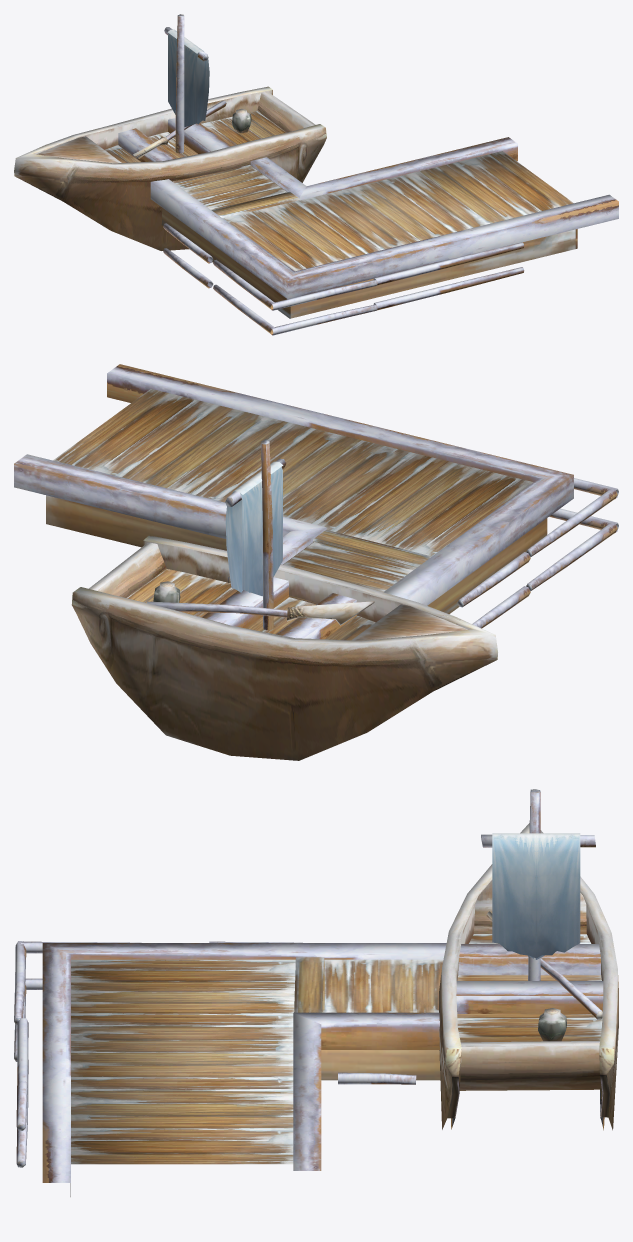
The model's file is SM_Ship_02.fbx.
3 renders of one model, top to bottom at view 1: azimuth 30°, elevation 25°; view 2: azimuth 150°, elevation 25°; view 3: azimuth 270°, elevation 25°, orthographic. The views are drawn at different scales.
Parts seen in each view (by area): view 1: SM_Ship_02; view 2: SM_Ship_02; view 3: SM_Ship_02.
Boxes of the visible parts, x1,y1,x2,y2 form: SM_Ship_02: (14,14,618,335); SM_Ship_02: (14,364,618,760); SM_Ship_02: (14,789,618,1196).
Size of the model in its own units: 20.42 by 9.32 by 16.35.
